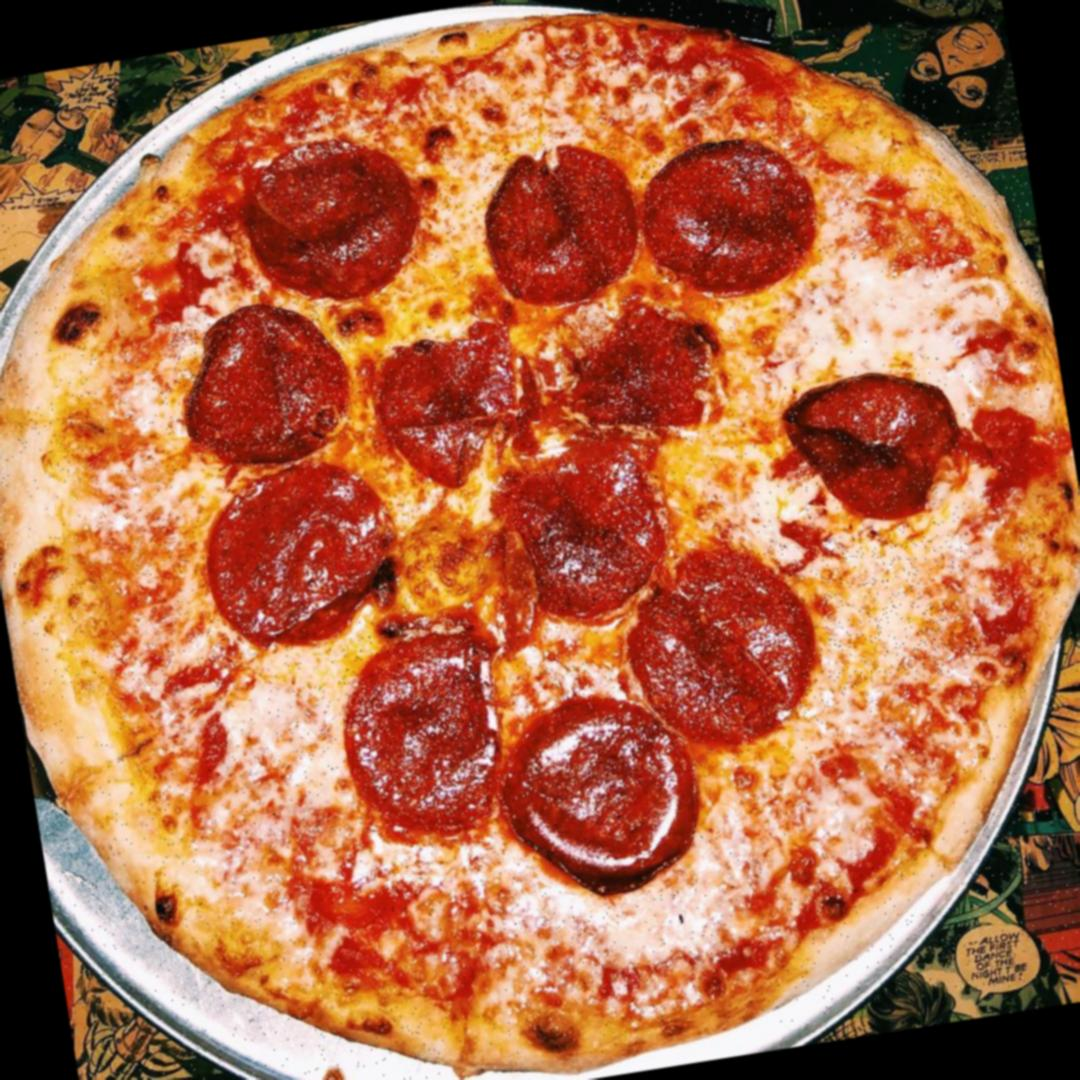Cheese: (738, 261, 985, 384), (810, 517, 982, 691), (707, 742, 894, 868)
Pepperoni: (631, 542, 822, 747), (506, 697, 704, 889), (195, 455, 398, 642), (334, 637, 509, 842), (240, 130, 427, 299), (170, 298, 356, 462), (638, 132, 813, 294), (787, 367, 960, 525), (499, 453, 662, 614), (486, 142, 634, 298), (378, 330, 520, 479), (576, 303, 719, 436)
Pizza: (0, 0, 1080, 1080)
